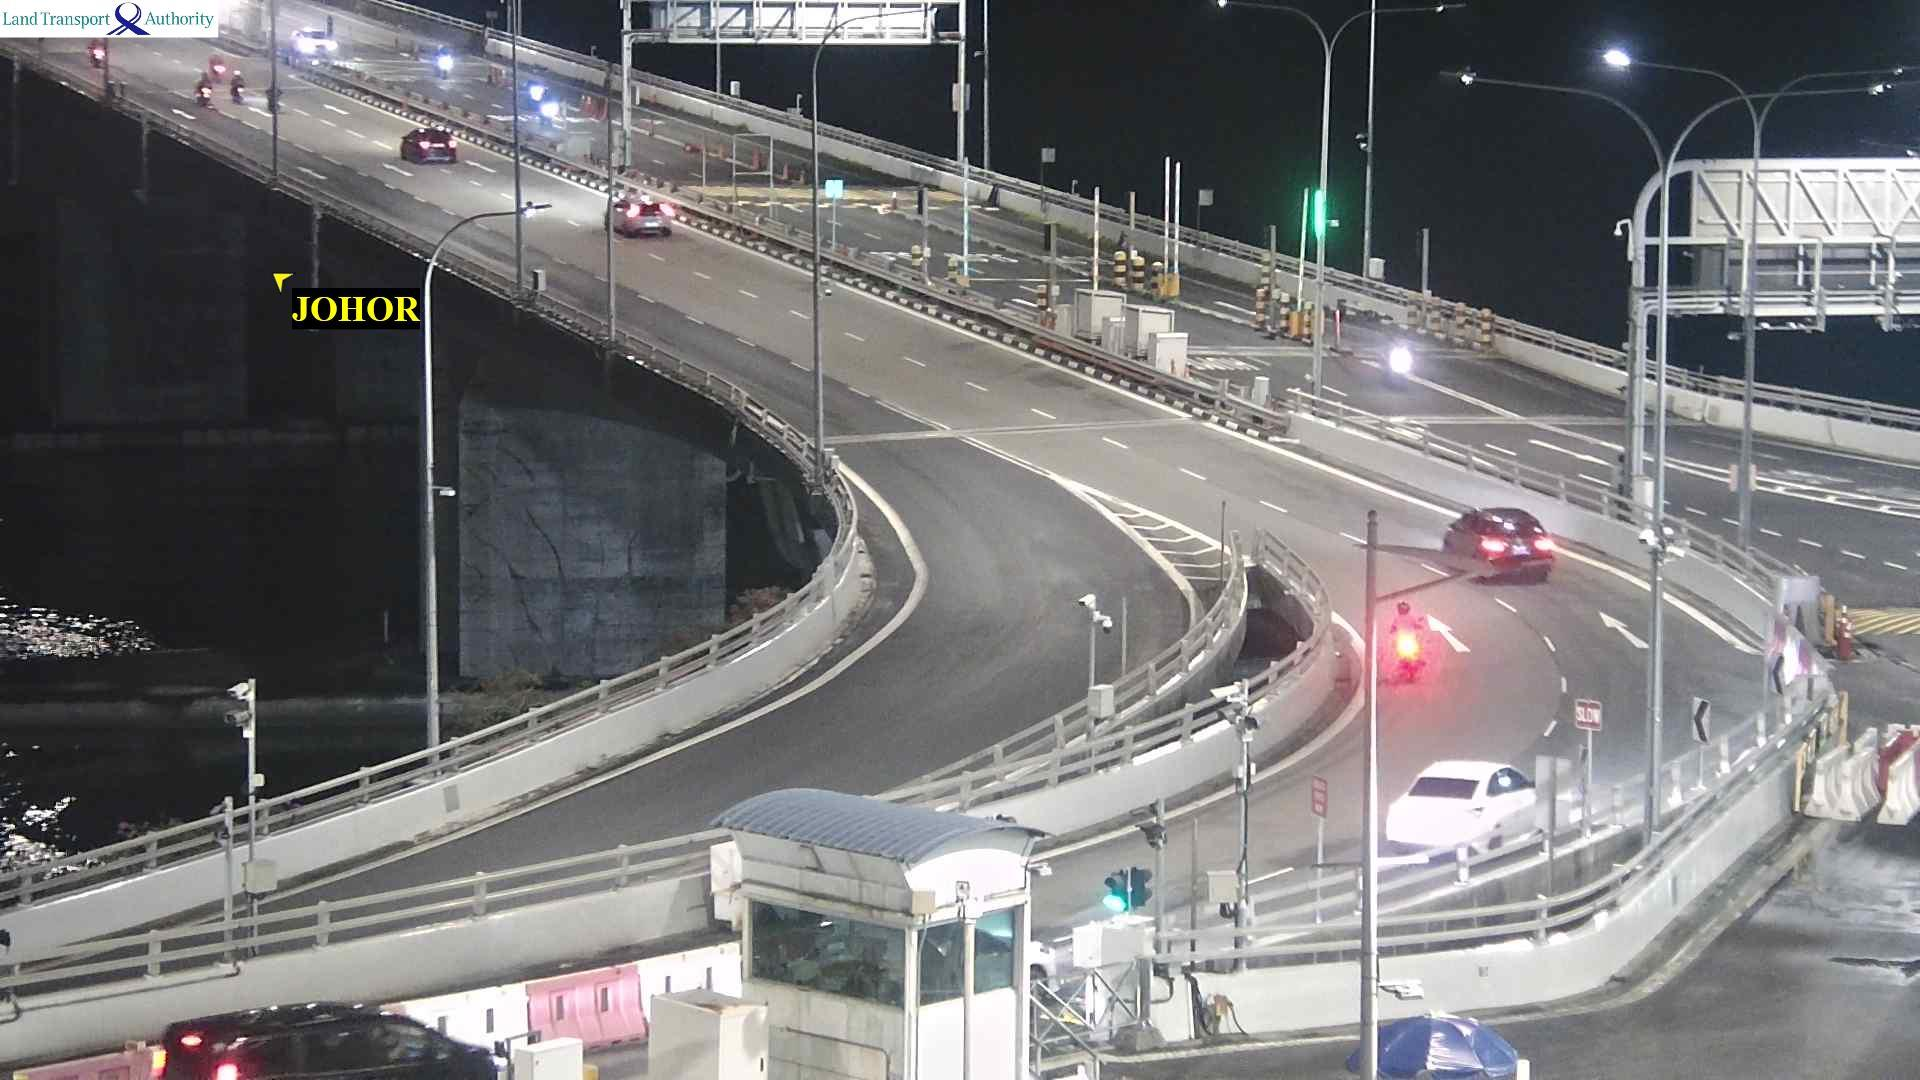vehicle-secondlink-johor: (163, 1004, 496, 1080), (1387, 750, 1536, 853), (1445, 506, 1551, 586), (1392, 598, 1427, 682), (402, 125, 457, 168), (609, 199, 666, 238), (198, 74, 211, 108), (231, 69, 246, 98), (208, 52, 224, 78)
vehicle-secondlink-singapore: (1382, 330, 1411, 387), (289, 26, 339, 59), (434, 45, 449, 77), (88, 39, 105, 66)
